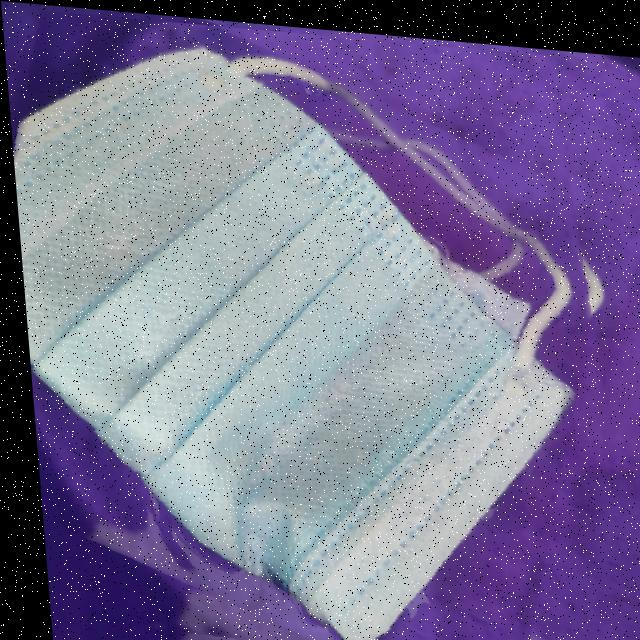litter: (0, 6, 640, 640)
